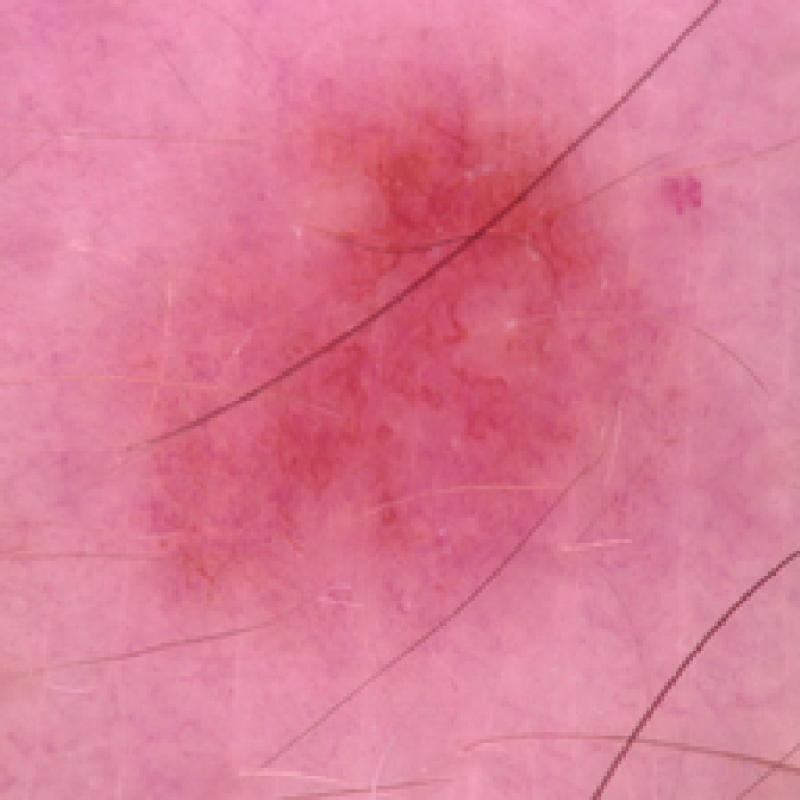benign: (121, 68, 716, 654)
